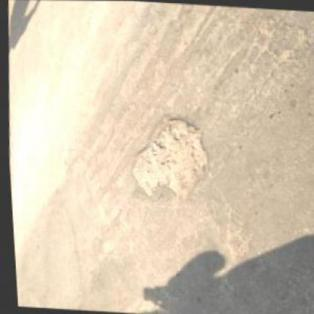Hueco: (124, 111, 212, 200)
